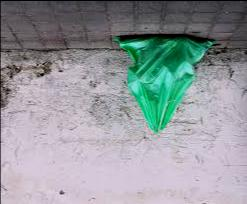Plastic: (109, 32, 215, 139)
